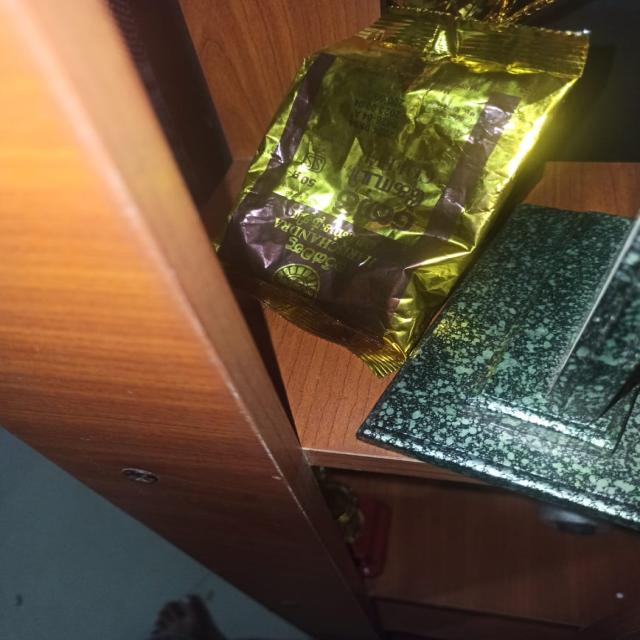Harischandra Coffee: (182, 0, 608, 383)
